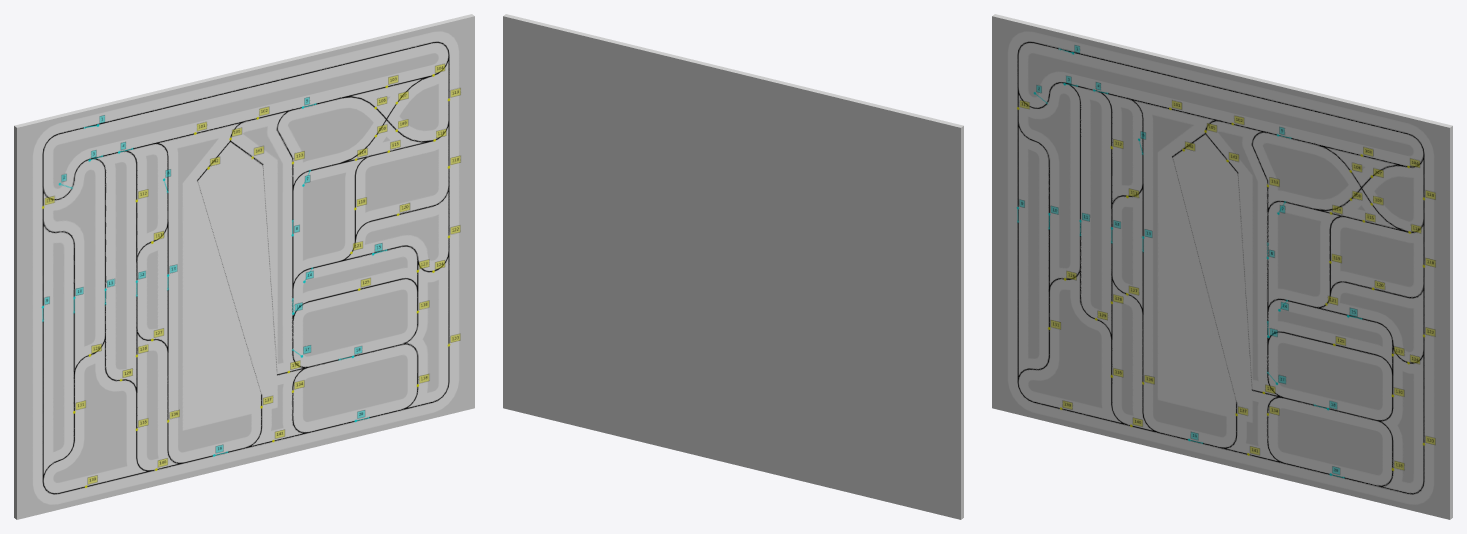
The model's file is ground.dae.
3 renders of one model, left to right at view 1: azimuth 30°, elevation 25°; view 2: azimuth 150°, elevation 25°; view 3: azimuth 330°, elevation 25°, orthographic.
Visible parts, largest first — view 1: node; view 2: node; view 3: node.
Part boxes in pixels (x1,y1,x2,y2): node: [14, 14, 474, 519]; node: [503, 14, 963, 519]; node: [992, 14, 1452, 519].
Bounding box in the file's own units: 2.2 × 1.8 × 0.025.
Materials: 1 (1 with a texture image).
